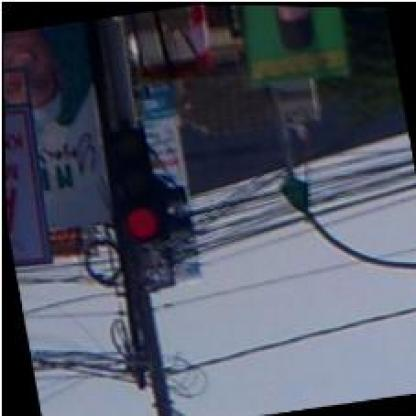red: (102, 123, 162, 244)
